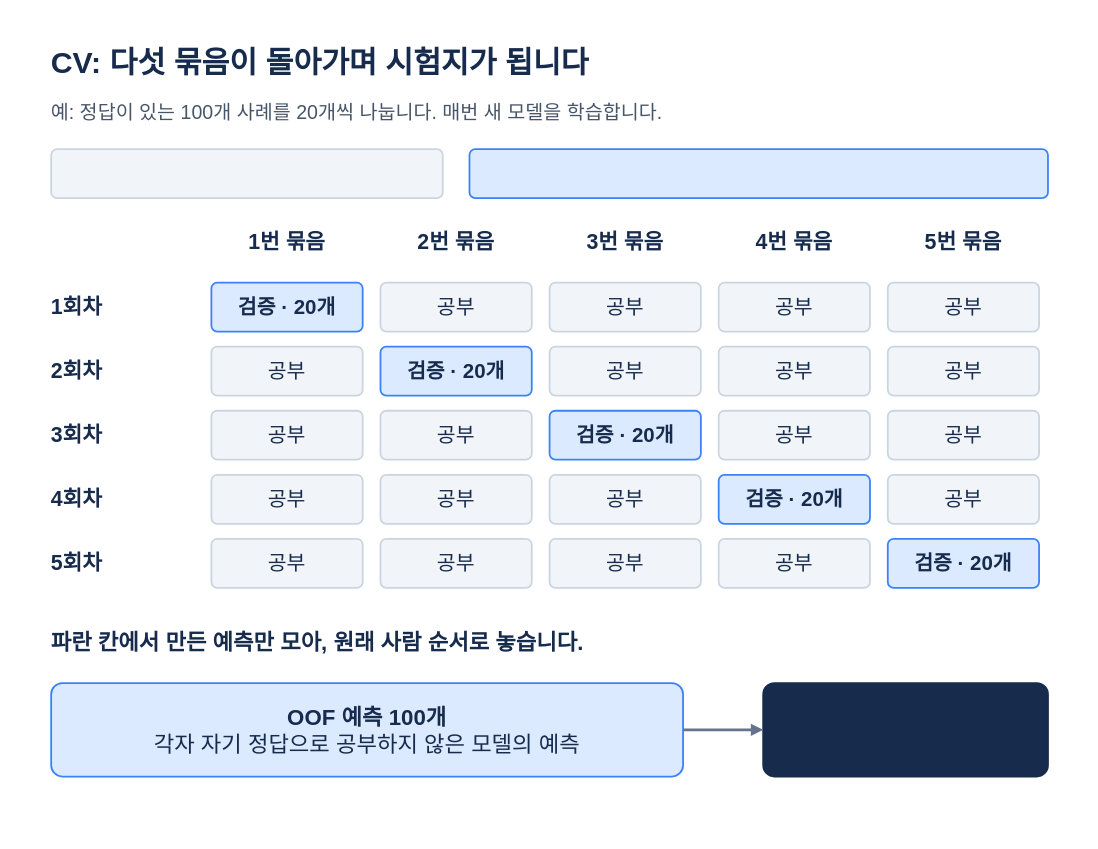
The diagram is 1098 pixels wide and 849 high, and some of its shapes have lost their labels. Here are the shapes that lost their labels. From the top down, the box of each, then its label:
(50, 148, 443, 198): 공부 = 정답과 함께 학습
(468, 148, 1048, 198): 검증 = 학습에서 제외하고 예측
(762, 682, 1048, 777): 정답과 비교 AUC로 채점
